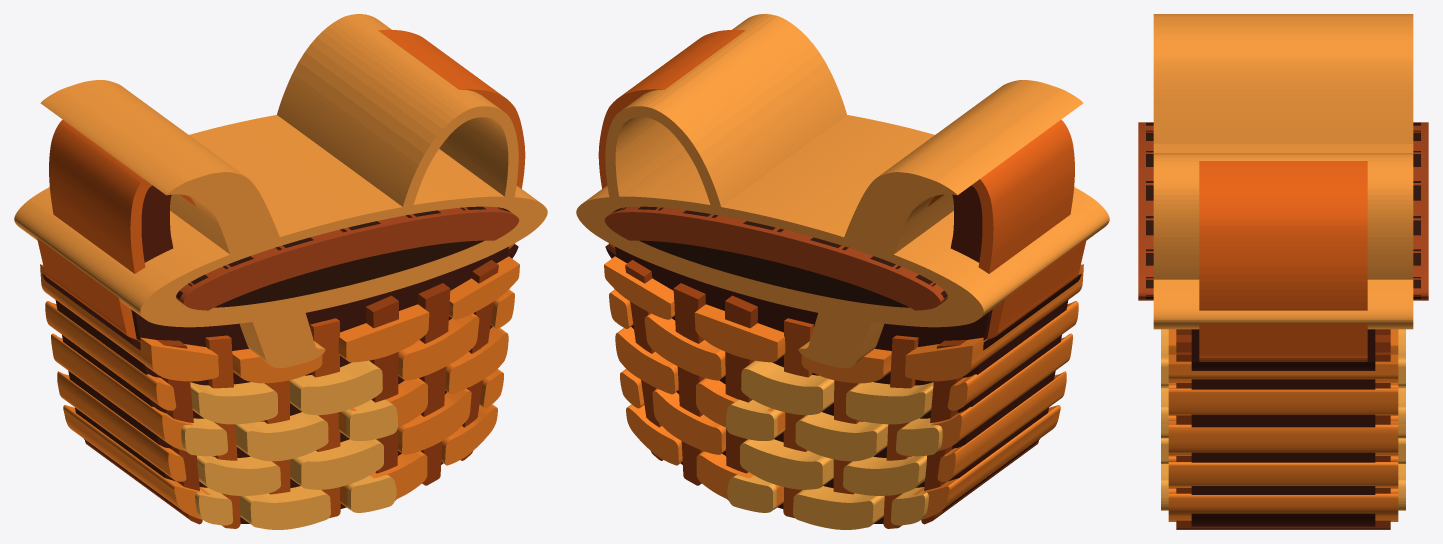
3 renders of one model, left to right at view 1: azimuth 30°, elevation 25°; view 2: azimuth 150°, elevation 25°; view 3: azimuth 270°, elevation 25°, orthographic. The views are drawn at different scales.
Visible parts, largest first — view 1: U+1F9FA_layer07_obj02, U+1F9FA_layer07_obj00, U+1F9FA_layer07_obj01, U+1F9FA_layer09_obj00, U+1F9FA_layer01_obj01, U+1F9FA_layer02_obj00, U+1F9FA_layer08_obj00, U+1F9FA_layer05_obj10, U+1F9FA_layer06_obj05, U+1F9FA_layer05_obj04, U+1F9FA_layer06_obj07, U+1F9FA_layer06_obj00 (+32 smaller); view 2: U+1F9FA_layer07_obj02, U+1F9FA_layer07_obj00, U+1F9FA_layer07_obj01, U+1F9FA_layer09_obj00, U+1F9FA_layer01_obj01, U+1F9FA_layer02_obj00, U+1F9FA_layer08_obj00, U+1F9FA_layer05_obj10, U+1F9FA_layer06_obj05, U+1F9FA_layer05_obj04, U+1F9FA_layer06_obj07, U+1F9FA_layer06_obj00 (+32 smaller); view 3: U+1F9FA_layer07_obj01, U+1F9FA_layer01_obj00, U+1F9FA_layer07_obj00, U+1F9FA_layer02_obj00, U+1F9FA_layer07_obj02, U+1F9FA_layer01_obj02, U+1F9FA_layer05_obj08, U+1F9FA_layer05_obj00, U+1F9FA_layer05_obj01, U+1F9FA_layer05_obj11, U+1F9FA_layer09_obj00, U+1F9FA_layer05_obj07 (+9 smaller).
Part boxes in pixels (x1,y1,x2,y2): U+1F9FA_layer07_obj02: (14, 115, 547, 327); U+1F9FA_layer07_obj00: (277, 14, 518, 211); U+1F9FA_layer07_obj01: (40, 80, 325, 368); U+1F9FA_layer09_obj00: (176, 206, 519, 310); U+1F9FA_layer01_obj01: (49, 119, 196, 273); U+1F9FA_layer02_obj00: (55, 246, 508, 523); U+1F9FA_layer08_obj00: (176, 206, 510, 307); U+1F9FA_layer05_obj10: (40, 264, 218, 381); U+1F9FA_layer06_obj05: (289, 360, 382, 415); U+1F9FA_layer05_obj04: (51, 333, 193, 451); U+1F9FA_layer06_obj07: (290, 439, 383, 489); U+1F9FA_layer06_obj00: (235, 412, 328, 461); U+1F9FA_layer07_obj02: (576, 115, 1109, 327); U+1F9FA_layer07_obj00: (605, 14, 846, 211); U+1F9FA_layer07_obj01: (798, 80, 1083, 368); U+1F9FA_layer09_obj00: (604, 206, 947, 310); U+1F9FA_layer01_obj01: (927, 119, 1074, 273); U+1F9FA_layer02_obj00: (615, 246, 1068, 523); U+1F9FA_layer08_obj00: (613, 206, 947, 307); U+1F9FA_layer05_obj10: (905, 264, 1083, 381); U+1F9FA_layer06_obj05: (741, 360, 834, 415); U+1F9FA_layer05_obj04: (930, 333, 1072, 451); U+1F9FA_layer06_obj07: (740, 439, 833, 489); U+1F9FA_layer06_obj00: (795, 412, 888, 461); U+1F9FA_layer07_obj01: (1153, 14, 1413, 143); U+1F9FA_layer01_obj00: (1199, 161, 1367, 310); U+1F9FA_layer07_obj00: (1153, 153, 1413, 279); U+1F9FA_layer02_obj00: (1191, 329, 1375, 526); U+1F9FA_layer07_obj02: (1153, 144, 1413, 329); U+1F9FA_layer01_obj02: (1199, 323, 1367, 361); U+1F9FA_layer05_obj08: (1168, 421, 1398, 455); U+1F9FA_layer05_obj00: (1168, 388, 1398, 415); U+1F9FA_layer05_obj01: (1168, 462, 1398, 487); U+1F9FA_layer05_obj11: (1168, 493, 1398, 521); U+1F9FA_layer09_obj00: (1138, 122, 1428, 300); U+1F9FA_layer05_obj07: (1168, 354, 1398, 382).
Size of the model in its own units: 0.3175 by 0.2901 by 0.19.
